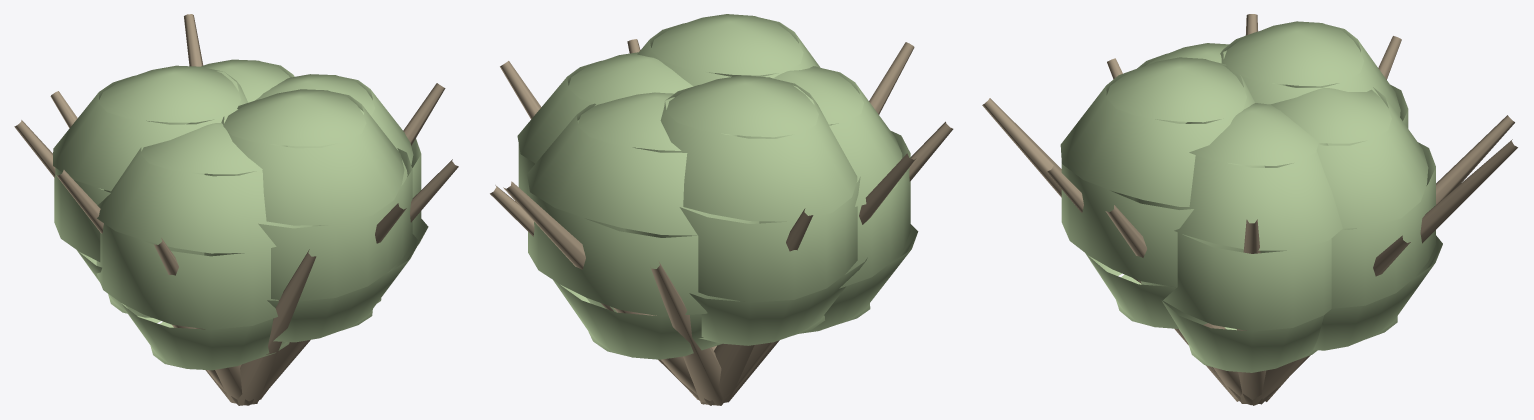
The model's file is salvia-rosmarinus.glb.
3 views of the same model, side by side, from view 1: azimuth 30°, elevation 25°; view 2: azimuth 150°, elevation 25°; view 3: azimuth 270°, elevation 25° (orthographic). The views are drawn at different scales.
Parts seen in each view (by area): view 1: salvia-rosmarinus; view 2: salvia-rosmarinus; view 3: salvia-rosmarinus.
Boxes of the visible parts, x1,y1,x2,y2 form: salvia-rosmarinus: [14, 14, 458, 405]; salvia-rosmarinus: [490, 14, 953, 405]; salvia-rosmarinus: [982, 14, 1517, 405].
Bounding box in the file's own units: 1.04 × 0.8307 × 1.18.
